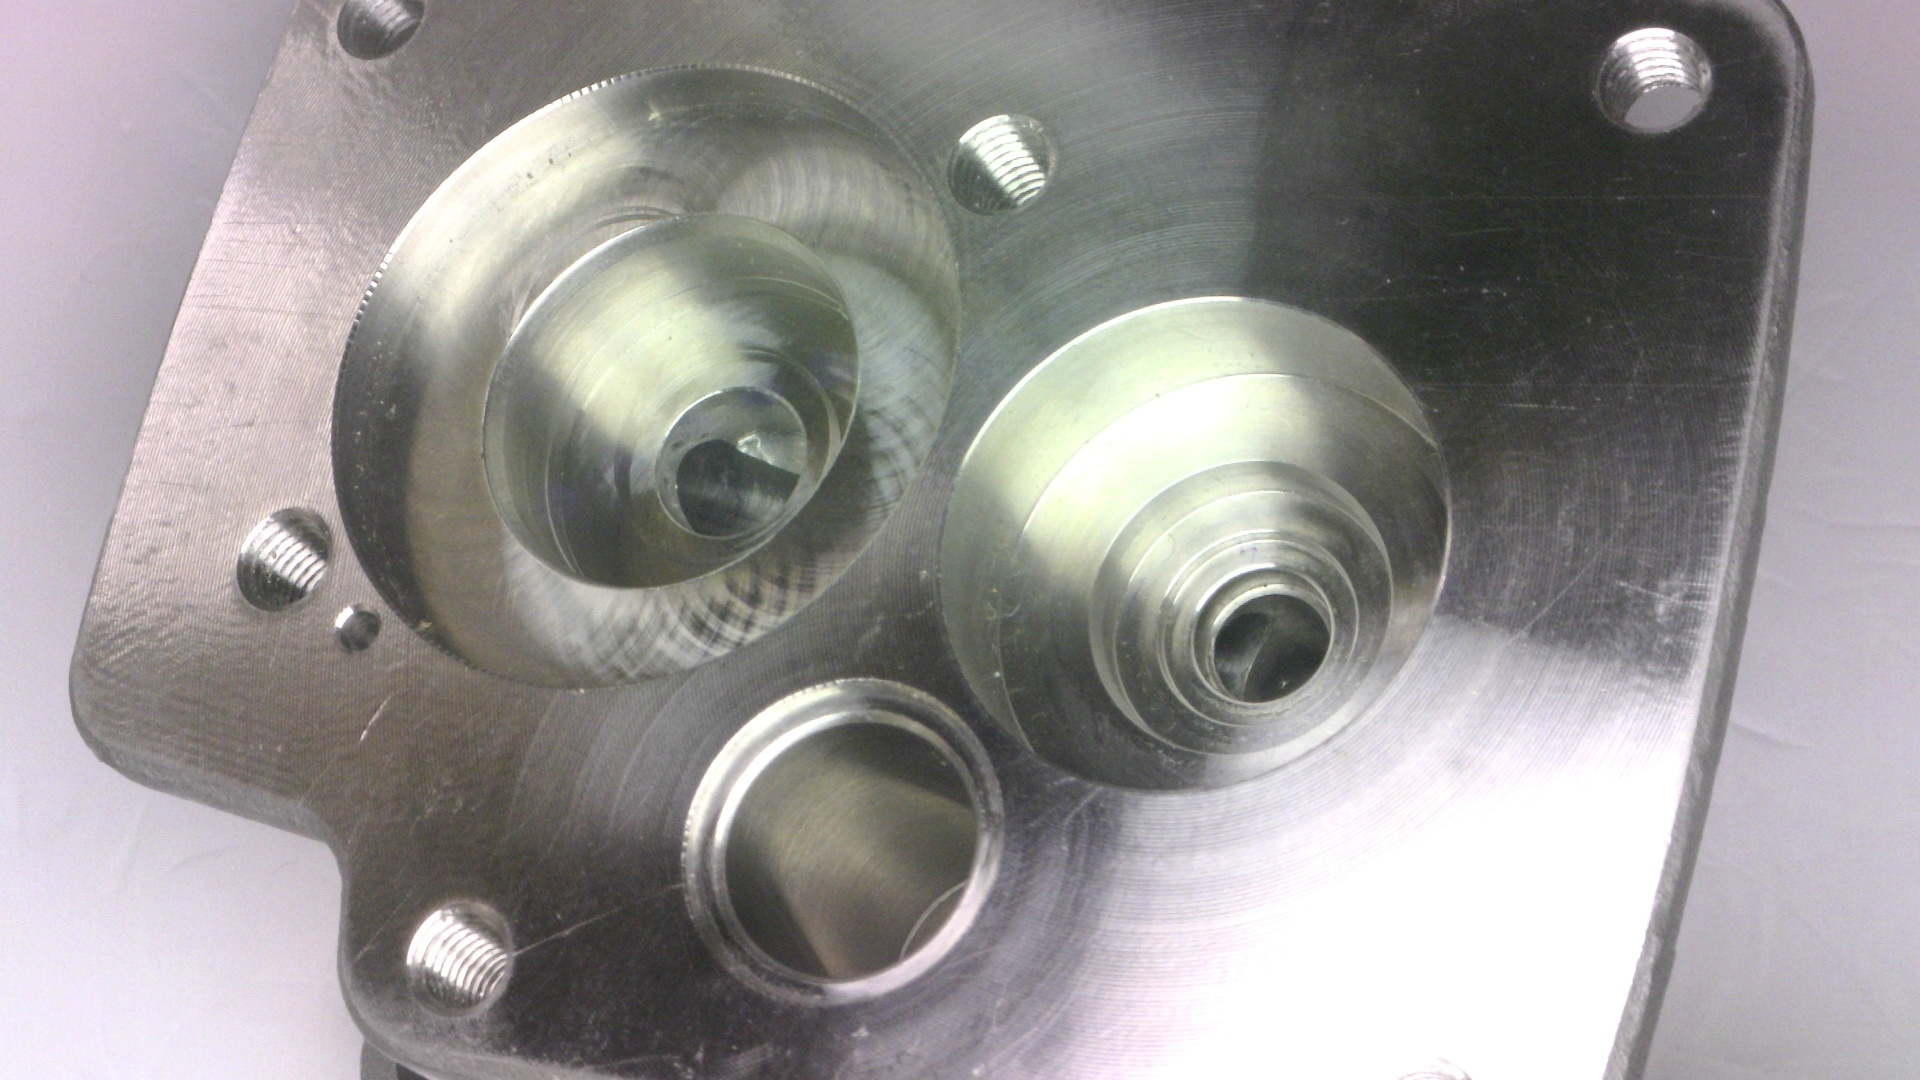chamfer_absence: (945, 73, 1854, 323), (1116, 407, 1646, 535), (1280, 642, 1638, 758), (1269, 964, 1514, 1080)
